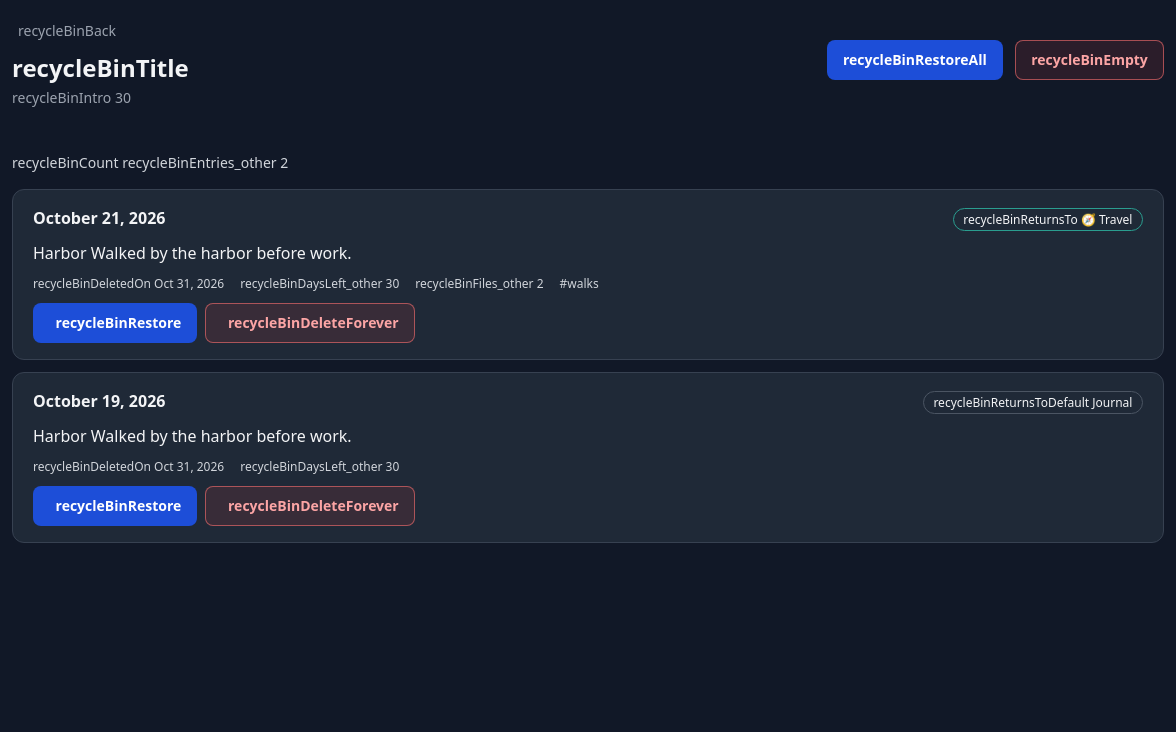
Scenario: RecycleBinPage › restores one entry and says where entries without a diary went
Click the button named "recycleBinRestoreEntry October 19, 2026" at x=115, y=506, box [33, 486, 198, 526]
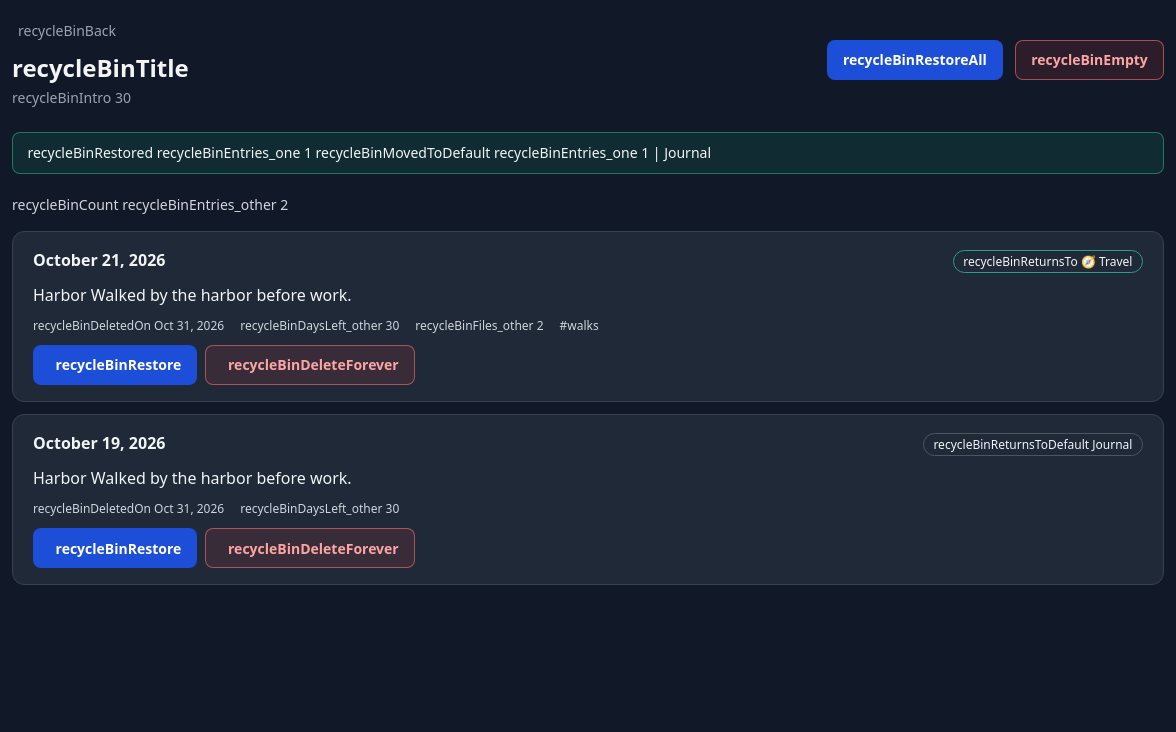
Check: the text "recycleBinRestored recycleBinEntries_one 1 recycleBinMovedToDefault recycleBinEntries_one 1 | Journal" is shown, box [27, 143, 711, 162]
